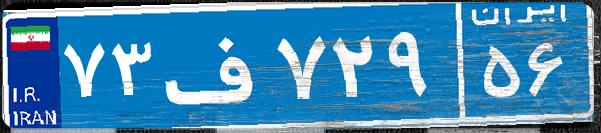2: (330, 28, 385, 110)
3: (110, 28, 158, 105)
5: (475, 38, 525, 113)
6: (525, 38, 570, 115)
7: (273, 28, 330, 110), (57, 26, 110, 107)
9: (385, 28, 445, 110)
ف: (158, 15, 273, 115)
